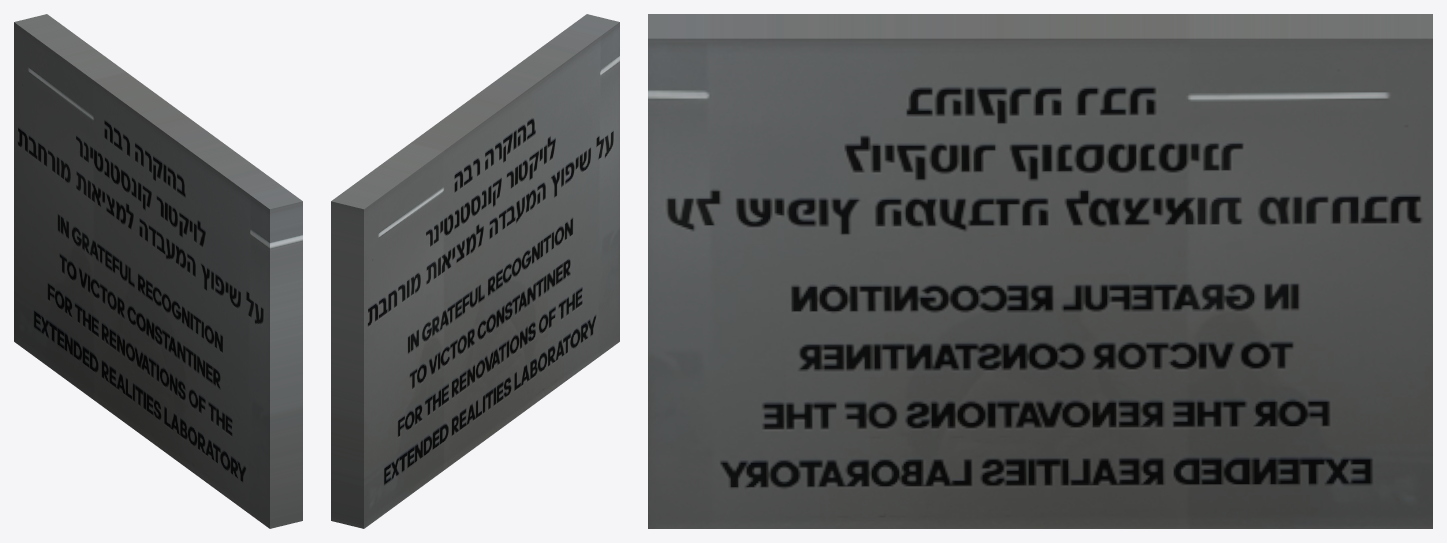
File: sign 1.fbx
3 renders of one model, left to right at view 1: azimuth 30°, elevation 25°; view 2: azimuth 150°, elevation 25°; view 3: azimuth 270°, elevation 25°, orthographic. The views are drawn at different scales.
Visible parts, largest first — view 1: Cube.023; view 2: Cube.023; view 3: Cube.023.
Boxes of the visible parts, <box> form: Cube.023: <box>14,14,302,528</box>; Cube.023: <box>331,14,619,528</box>; Cube.023: <box>648,14,1432,528</box>.
Size of the model in its own units: 21.67 by 200 by 290.
